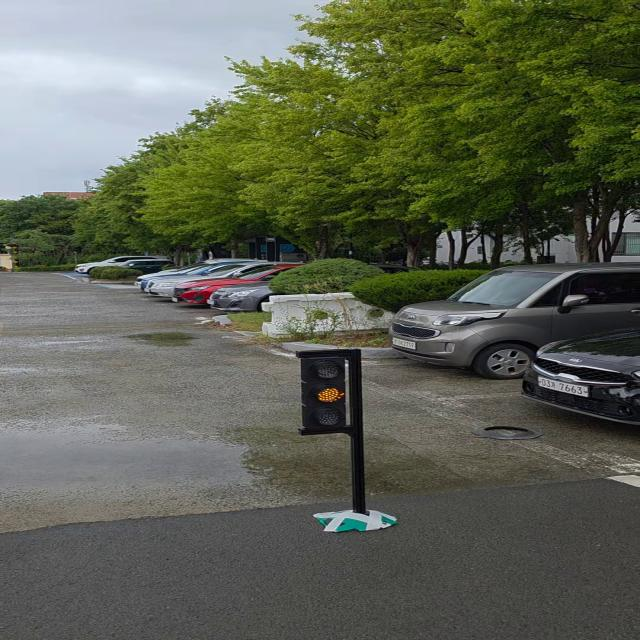yellow: (302, 350, 359, 432)
